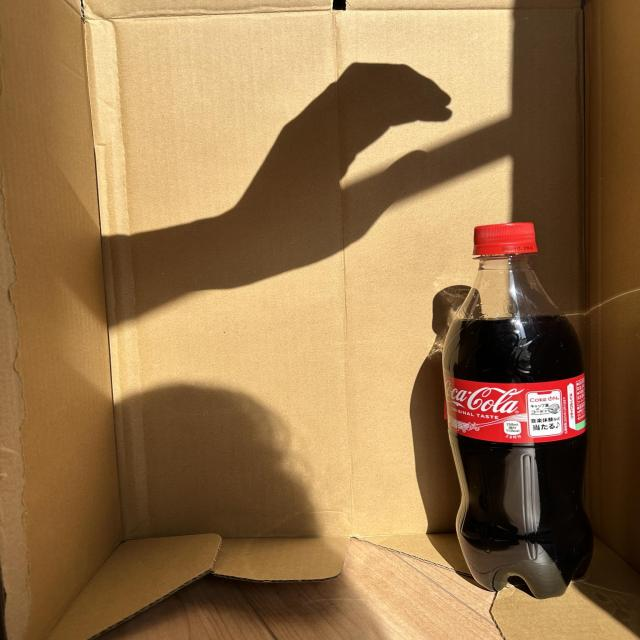high: (442, 223, 592, 598)
